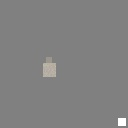supply_truck: (43, 63, 56, 77)
